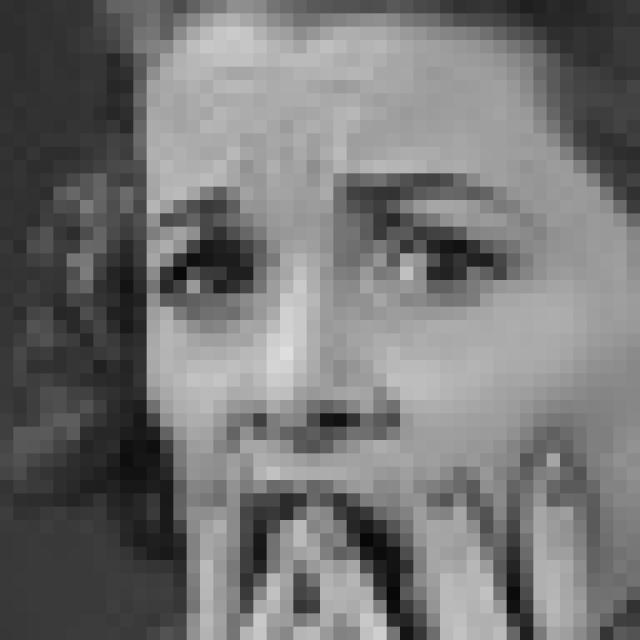fear: (146, 147, 539, 605)
